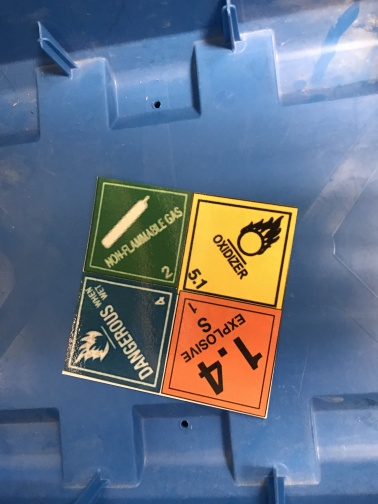DangerousWhenWet: (60, 273, 178, 393)
Explosive: (163, 290, 279, 419)
NonFlammableGas: (85, 177, 192, 289)
Oxidizer: (179, 193, 291, 307)
